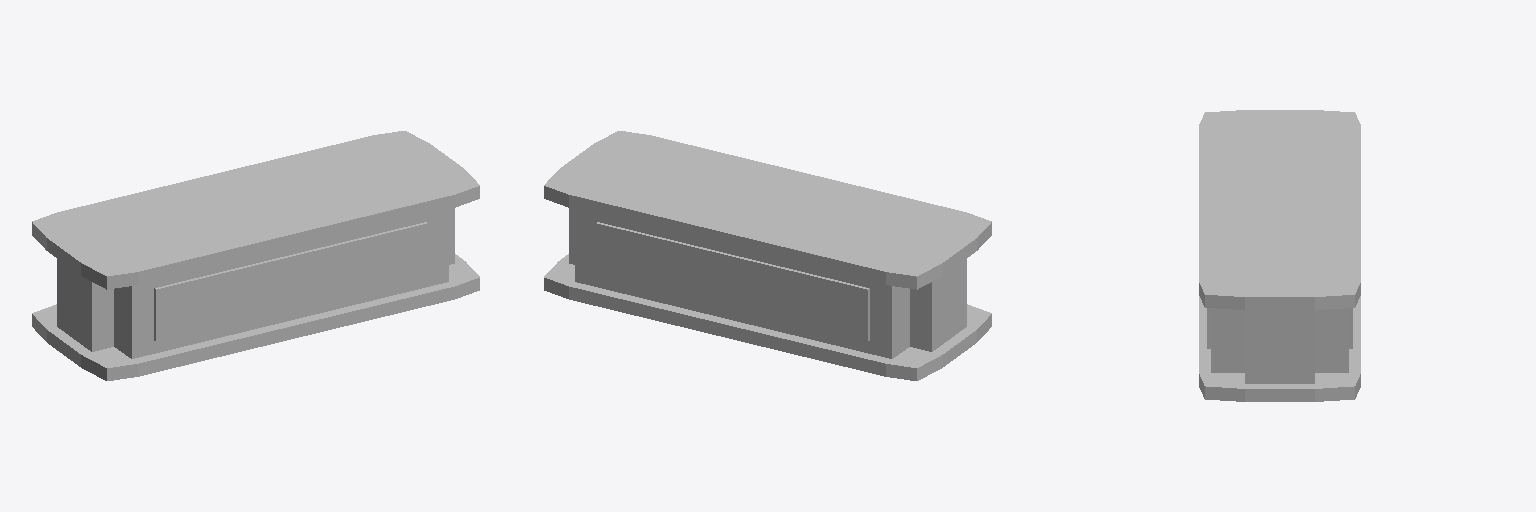
File: Altar.obj
3 views of the same model, side by side, from view 1: azimuth 30°, elevation 25°; view 2: azimuth 150°, elevation 25°; view 3: azimuth 270°, elevation 25° (orthographic).
Visible parts, largest first — view 1: polySurface197; view 2: polySurface197; view 3: polySurface197.
Boxes of the visible parts, <box> form: polySurface197: <box>32,131,479,380</box>; polySurface197: <box>544,131,991,380</box>; polySurface197: <box>1199,110,1360,401</box>.
Bounding box in the file's own units: 363 × 94.66 × 133.